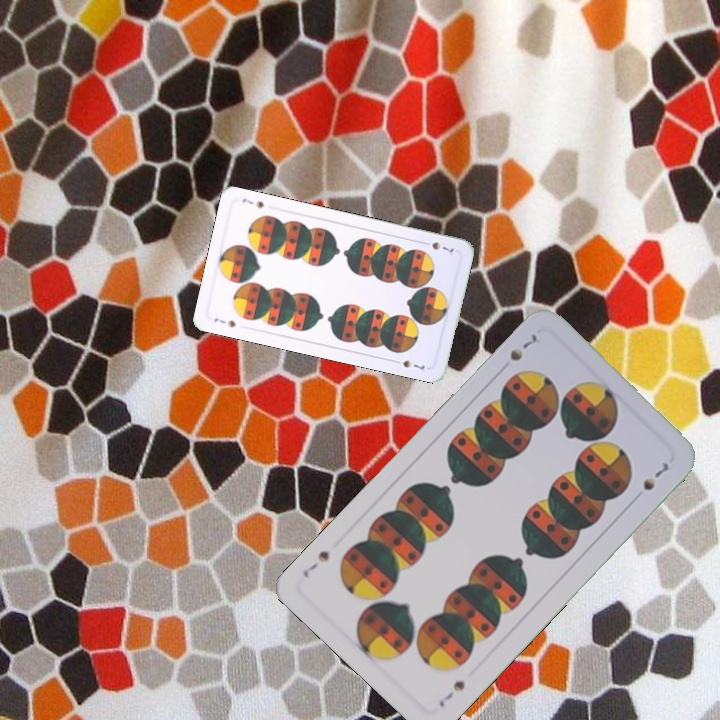S7: (506, 329, 543, 364), (434, 676, 468, 710), (418, 237, 456, 255), (210, 314, 238, 330)
